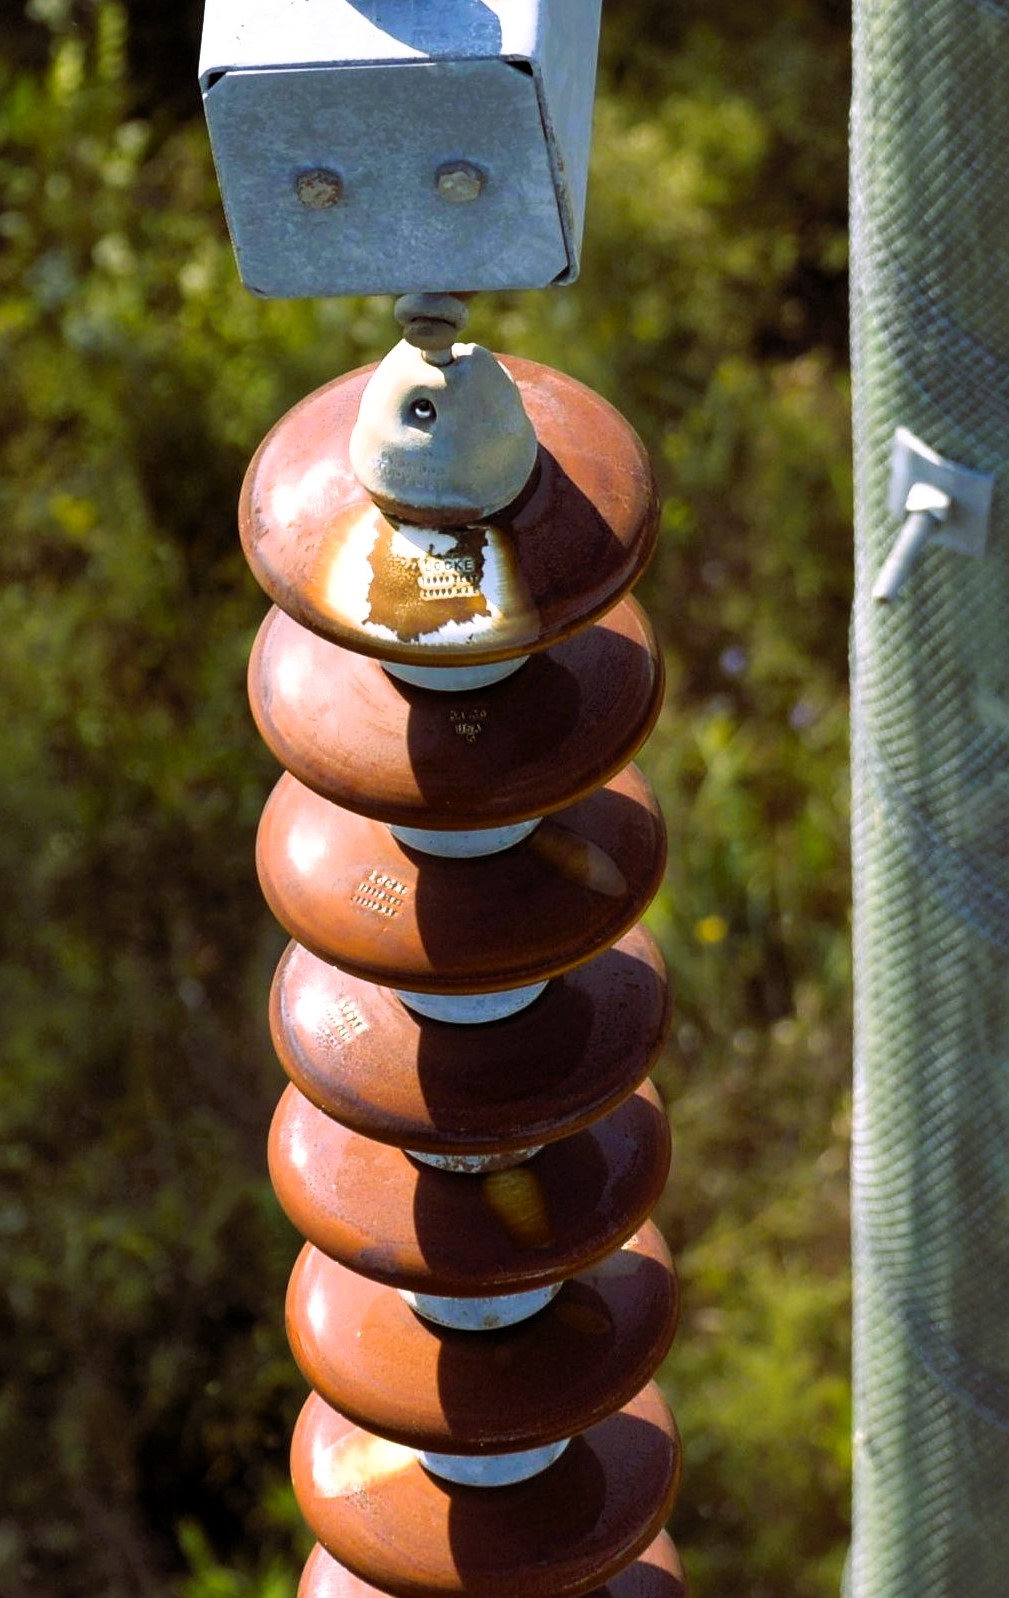Insulator flashover: (229, 339, 670, 672)
